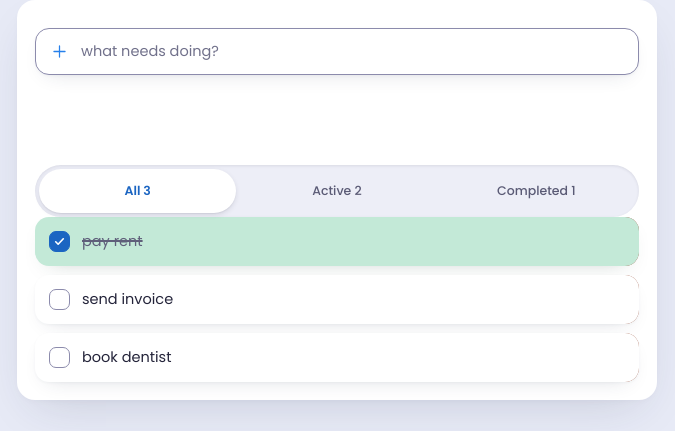
it: the Filter Views, through the mounted card (Story 4.3) › says the change did not save, and says it assertively (AC2, AC7)
Click the checkbox next to "book dentist": click(60, 358) [49,347,70,368]
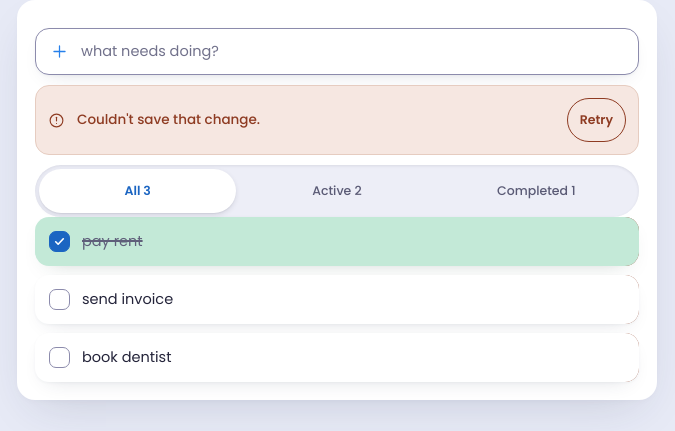
expect the text "Couldn't save that change." is shown: met, box [77,111,260,130]
expect the button "Retry" is shown: met, box [567,98,626,142]
